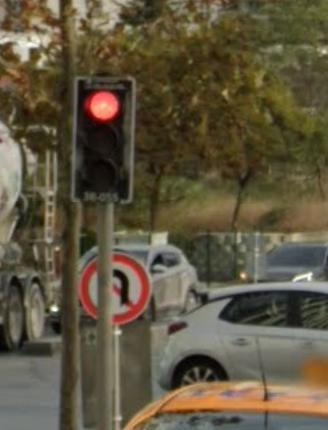redlight: (75, 75, 134, 207)
